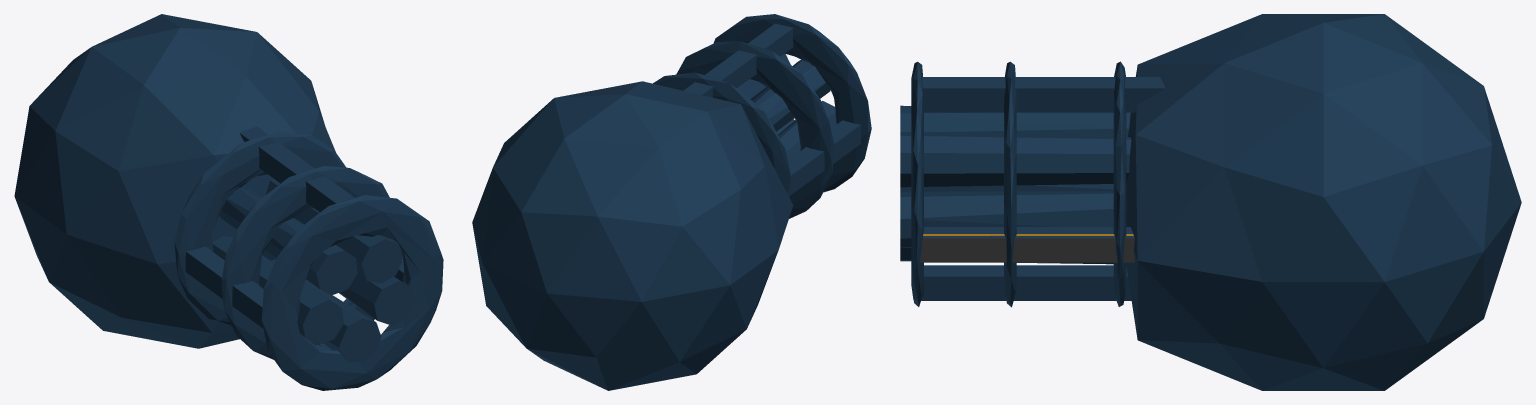
File: turret1.obj
3 renders of one model, left to right at view 1: azimuth 30°, elevation 25°; view 2: azimuth 150°, elevation 25°; view 3: azimuth 270°, elevation 25°, orthographic. The views are drawn at different scales.
Parts seen in each view (by area): view 1: Tank_Turret_1; view 2: Tank_Turret_1; view 3: Tank_Turret_1.
Boxes of the visible parts, <box> form: Tank_Turret_1: <box>14,14,443,390</box>; Tank_Turret_1: <box>472,14,871,390</box>; Tank_Turret_1: <box>900,14,1521,390</box>.
Size of the model in its own units: 1.22 by 1.29 by 2.02.
1 material, 1 textured.
